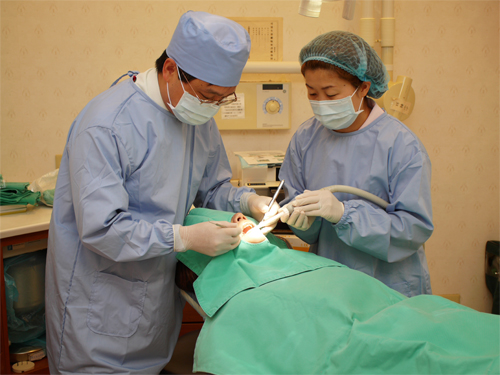mask: (308, 96, 363, 130), (169, 94, 220, 126)
